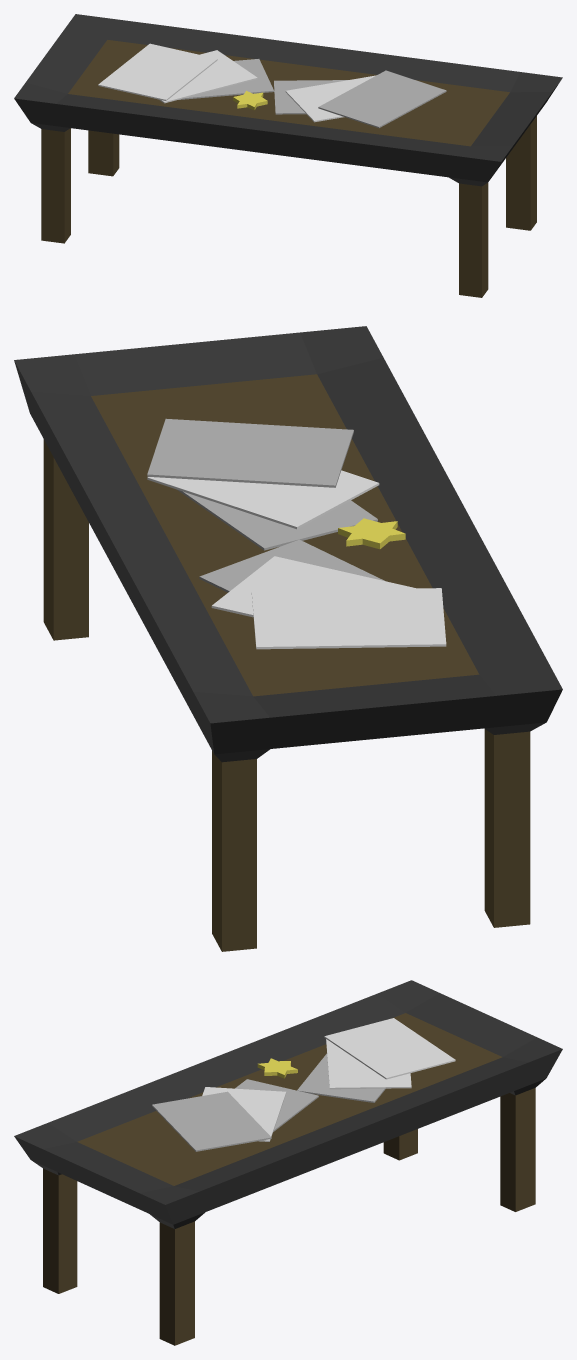
File: police table.fbx
The picture shows the model from 3 angles, top to bottom: view 1: azimuth 30°, elevation 25°; view 2: azimuth 150°, elevation 25°; view 3: azimuth 270°, elevation 25°; orthographic projection. The views are drawn at different scales.
Parts seen in each view (by area): view 1: police station table, Paper.002, Paper.001, star; view 2: police station table, Paper.001, Paper.002, star; view 3: police station table, Paper.002, Paper.001, star.
Boxes of the visible parts, x1,y1,x2,y2 form: police station table: (14,14,562,297); Paper.002: (98,43,274,103); Paper.001: (274,70,446,128); star: (233,90,267,110); police station table: (14,326,562,951); Paper.001: (147,418,379,550); Paper.002: (199,539,446,649); star: (338,518,405,549); police station table: (14,980,562,1345); Paper.002: (297,1018,455,1102); Paper.001: (152,1079,318,1151); star: (257,1058,297,1078).
Size of the model in its own units: 7.6 by 2.48 by 7.84.
